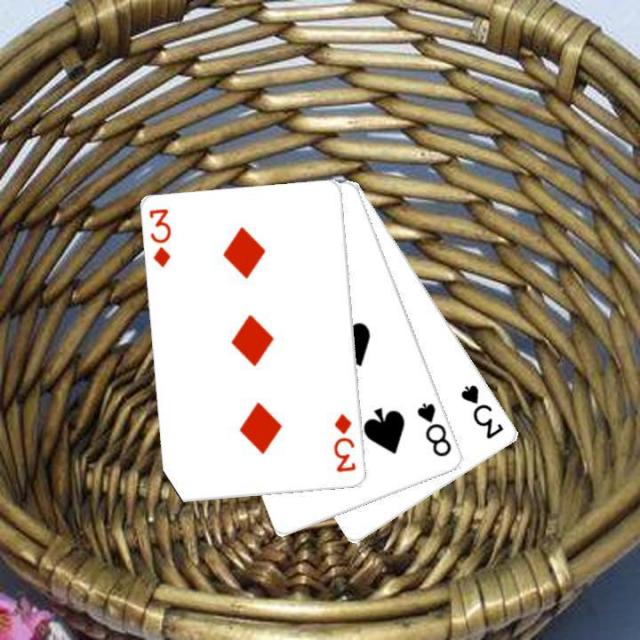3D: (145, 206, 173, 270), (331, 410, 358, 474)
3S: (457, 380, 506, 441)
8S: (414, 399, 454, 459)
